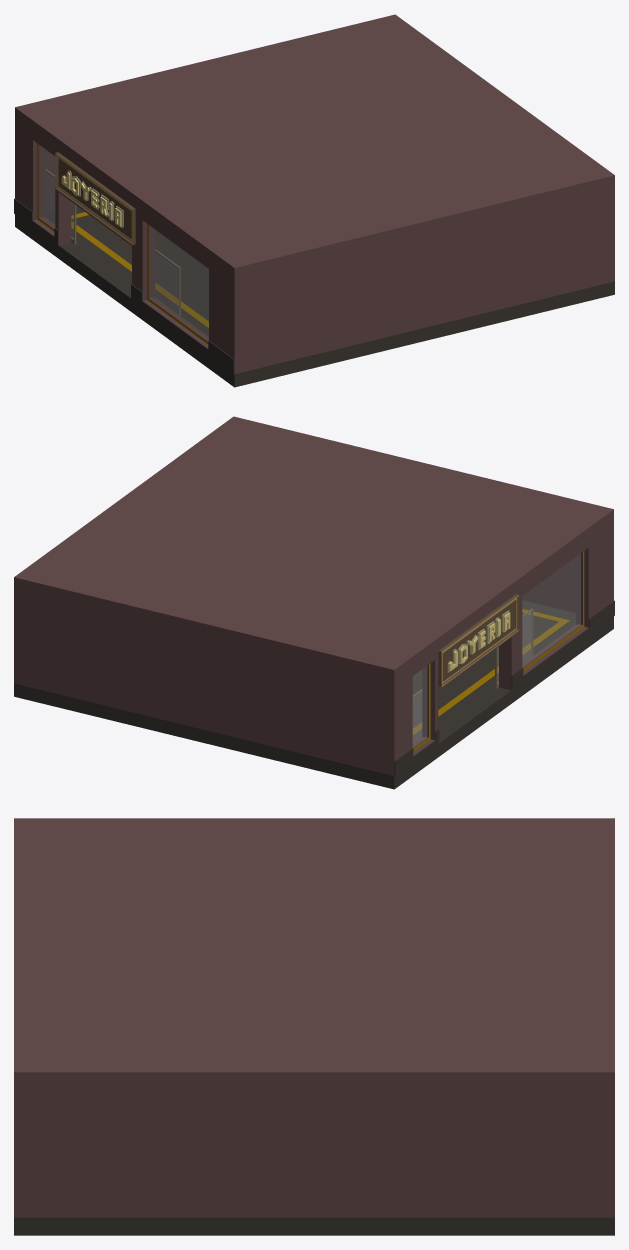
Rendered from Tienda de Joyeria 2.fbx.
3 renders of one model, top to bottom at view 1: azimuth 30°, elevation 25°; view 2: azimuth 150°, elevation 25°; view 3: azimuth 270°, elevation 25°, orthographic. The views are drawn at different scales.
Visible parts, largest first — view 1: Techo_12, Pared3_1x10x26, Piso_12, Fachada_14, Vidrio_Joy_7, Esquina_1x10x42, Esquina_1x10x6, Letrero_10, Esquina_1x10x41, Vidrio_puerta_Joy_2, Vidrio_Joy_6, Vidrio_puerta_Joy_1; view 2: Techo_12, Pared2_1x10x26, Piso_12, Fachada_14, Vidrio_Joy_7, Esquina_1x10x41, Esquina_1x10x1, Letrero_10, Pared3_1x10x26, Esquina_1x10x42, Vidrio_Joy_6, Vidrio_puerta_Joy_2; view 3: Techo_12, Pared_1x10x26, Piso_12, Esquina_1x10x1, Esquina_1x10x6.
Boxes of the visible parts, x1,y1,x2,y2 form: Techo_12: (15, 14, 614, 281); Pared3_1x10x26: (260, 194, 589, 367); Piso_12: (15, 205, 614, 387); Fachada_14: (28, 132, 219, 363); Vidrio_Joy_7: (150, 226, 208, 339); Esquina_1x10x42: (219, 271, 259, 374); Esquina_1x10x6: (589, 188, 614, 287); Letrero_10: (55, 152, 135, 245); Esquina_1x10x41: (14, 121, 47, 223); Vidrio_puerta_Joy_2: (155, 252, 178, 314); Vidrio_Joy_6: (41, 146, 54, 227); Vidrio_puerta_Joy_1: (46, 172, 73, 239); Techo_12: (14, 416, 613, 683); Pared2_1x10x26: (39, 596, 368, 769); Piso_12: (14, 600, 613, 789); Fachada_14: (409, 534, 600, 765); Vidrio_Joy_7: (522, 553, 580, 666); Esquina_1x10x41: (369, 673, 409, 776); Esquina_1x10x1: (14, 590, 39, 689); Letrero_10: (438, 594, 518, 687); Pared3_1x10x26: (522, 557, 575, 612); Esquina_1x10x42: (599, 523, 614, 625); Vidrio_Joy_6: (413, 666, 426, 746); Vidrio_puerta_Joy_2: (497, 611, 531, 683); Techo_12: (14, 818, 614, 1090); Pared_1x10x26: (54, 1090, 574, 1217); Piso_12: (14, 1217, 614, 1235); Esquina_1x10x1: (575, 1090, 614, 1217); Esquina_1x10x6: (14, 1090, 53, 1217).
Bounding box in the file's own units: 30.41 × 9 × 30.
